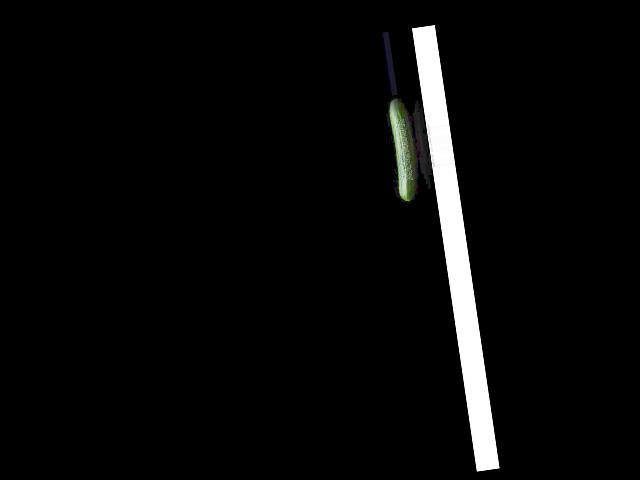cucumber: (386, 99, 416, 202)
